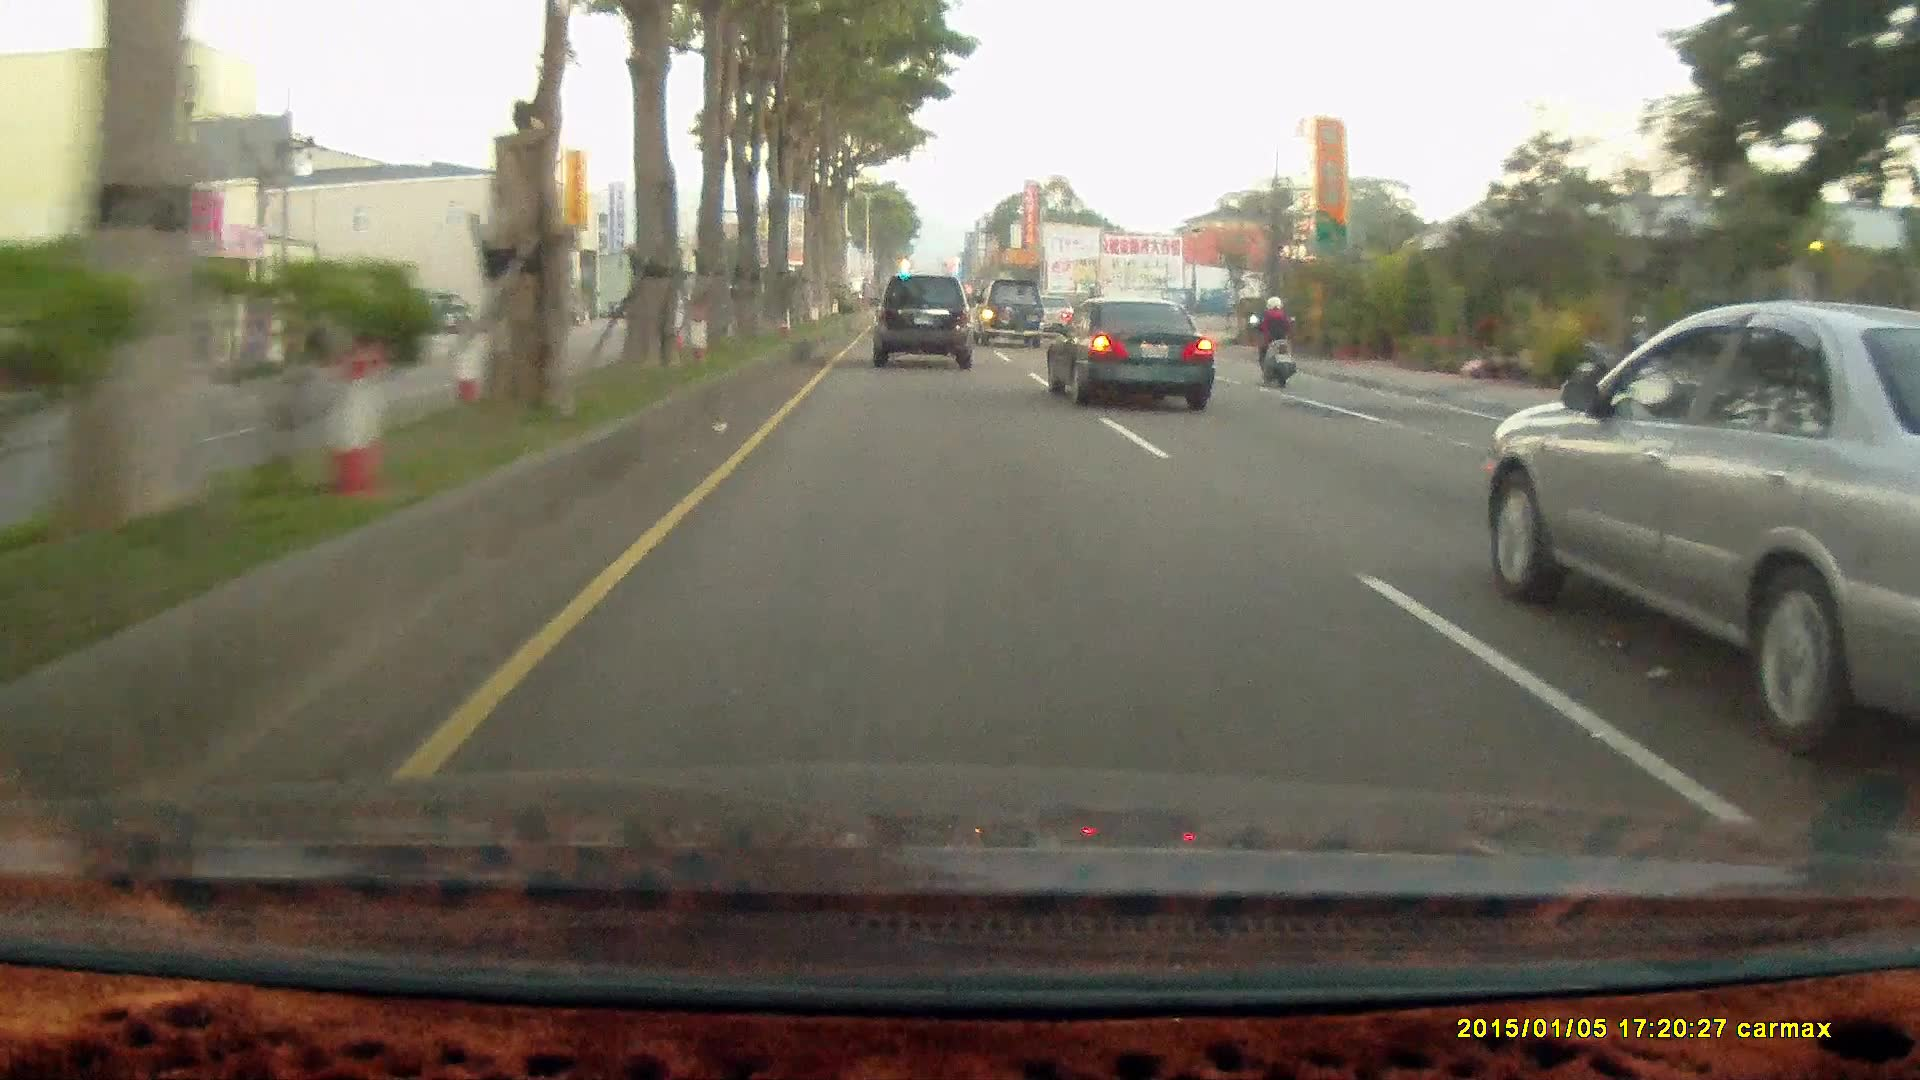rider: (1242, 286, 1308, 398), (1245, 291, 1300, 386)
vehicle: (1468, 294, 1917, 757), (1041, 295, 1217, 410), (1042, 294, 1212, 411), (870, 275, 976, 374), (870, 277, 972, 366), (970, 278, 1045, 349)
